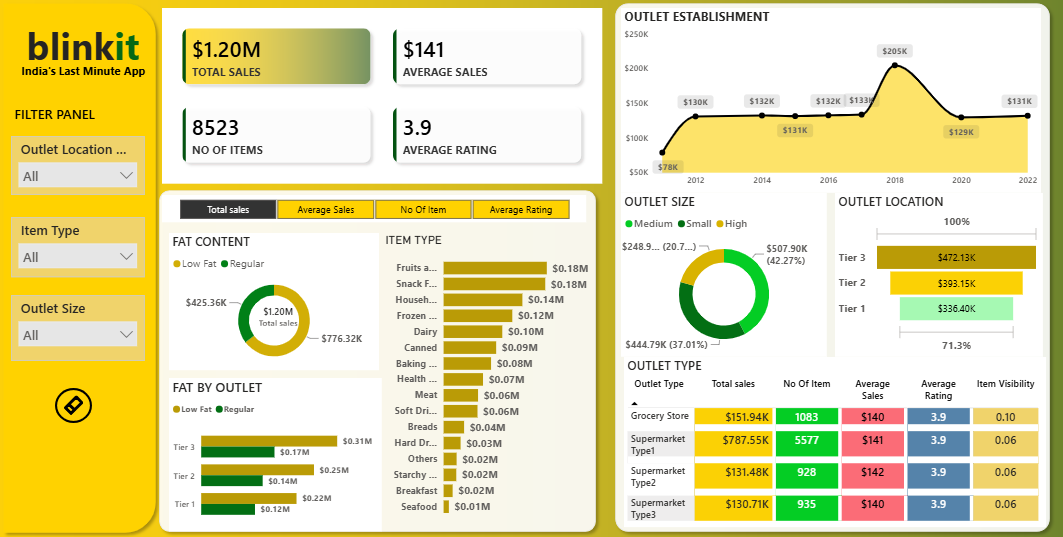

The dashboard page shown, as its layout file describes it:
{"tool":"powerbi","page":{"name":"Page 1","canvas":[1525,773],"ordinal":0},"visuals":[{"type":"shape","box":[0,0,235.7,774.3],"z":0},{"type":"textbox","box":[0,27.1,245.7,81.4],"z":1000},{"type":"textbox","box":[30,90,278.6,78.6],"z":2000},{"type":"shape","box":[222.9,267.1,641.4,505.7],"z":4000},{"type":"donutChart","title":"FAT CONTENT","fields":{"Y":["Table.Total sales"],"Category":["BlinkIT Grocery Data.Item Fat Content"]},"box":[245.7,337.1,300,195.7],"z":5000},{"type":"slicer","fields":{"Values":["Metrics.Metrics"]},"box":[235.7,282.9,605.7,38.6],"z":6000},{"type":"cardVisual","fields":{"Data":["Table.Total sales"]},"box":[344.3,425.7,115.7,61.4],"z":7000},{"type":"clusteredBarChart","title":"FAT BY OUTLET","fields":{"Y":["Table.Total sales"],"Category":["BlinkIT Grocery Data.Outlet Location Type"],"Series":["BlinkIT Grocery Data.Item Fat Content"]},"box":[245.7,544.3,304.3,218.6],"z":7001},{"type":"barChart","title":"ITEM TYPE","fields":{"Category":["BlinkIT Grocery Data.Item Type"],"Y":["Table.Total sales"]},"box":[550,337.1,300,414.3],"z":7002},{"type":"shape","box":[874.3,0,638.6,772.9],"z":7003},{"type":"lineChart","title":"OUTLET ESTABLISHMENT","fields":{"Y":["Table.Total sales"],"Category":["BlinkIT Grocery Data.Outlet Establishment Year"]},"box":[891.4,15.7,600,264.3],"z":7004},{"type":"donutChart","title":"OUTLET SIZE","fields":{"Y":["Table.Total sales"],"Category":["BlinkIT Grocery Data.Outlet Size"]},"box":[891.4,280,294.3,234.3],"z":7005},{"type":"funnel","title":"OUTLET LOCATION","fields":{"Y":["Table.Total sales"],"Category":["BlinkIT Grocery Data.Outlet Location Type"]},"box":[1197.1,280,297.1,234.3],"z":7006},{"type":"pivotTable","title":"OUTLET TYPE","fields":{"Rows":["BlinkIT Grocery Data.Outlet Type"],"Values":["Table.Total sales","Table.No Of Item","Table.Average Sales","Table.Average Rating","Avg(BlinkIT Grocery Data.Item Visibility)"]},"box":[895.7,514.3,602.9,242.9],"z":7007},{"type":"cardVisual","fields":{"Data":["Table.Total sales","Table.Average Sales","Table.No Of Item","Table.Average Rating"]},"box":[235.7,15.7,628.6,251.4],"z":7008},{"type":"slicer","fields":{"Values":["BlinkIT Grocery Data.Outlet Location Type"]},"box":[20,198.6,191.4,84.3],"z":7009},{"type":"slicer","fields":{"Values":["BlinkIT Grocery Data.Outlet Size"]},"box":[20,425.7,191.4,94.3],"z":7010},{"type":"slicer","fields":{"Values":["BlinkIT Grocery Data.Item Type"]},"box":[20,314.3,191.4,85.7],"z":7011},{"type":"textbox","box":[20,148.6,178.6,38.6],"z":7012},{"type":"actionButton","box":[82.9,558.6,52.9,50],"z":7013}]}

Visuals, with their boxes in screenshot pixels (x1, y1, x2, y2), scaled from the page's 1525x773 canvas onto the 1063x537 screenshot:
shape: [0,0,164,536]
textbox: [0,19,171,75]
textbox: [21,63,215,117]
shape: [155,186,602,536]
"FAT CONTENT" donutChart: [171,234,380,370]
slicer - Metrics.Metrics: [164,197,586,223]
cardVisual - Table.Total sales: [240,296,321,338]
"FAT BY OUTLET" clusteredBarChart: [171,378,383,530]
"ITEM TYPE" barChart: [383,234,592,522]
shape: [609,0,1055,536]
"OUTLET ESTABLISHMENT" lineChart: [621,11,1040,195]
"OUTLET SIZE" donutChart: [621,195,826,357]
"OUTLET LOCATION" funnel: [834,195,1042,357]
"OUTLET TYPE" pivotTable: [624,357,1045,526]
cardVisual - Table.Total sales x Table.Average Sales: [164,11,602,186]
slicer - BlinkIT Grocery Data.Outlet Location Type: [14,138,147,197]
slicer - BlinkIT Grocery Data.Outlet Size: [14,296,147,361]
slicer - BlinkIT Grocery Data.Item Type: [14,218,147,278]
textbox: [14,103,138,130]
actionButton: [58,388,95,423]
